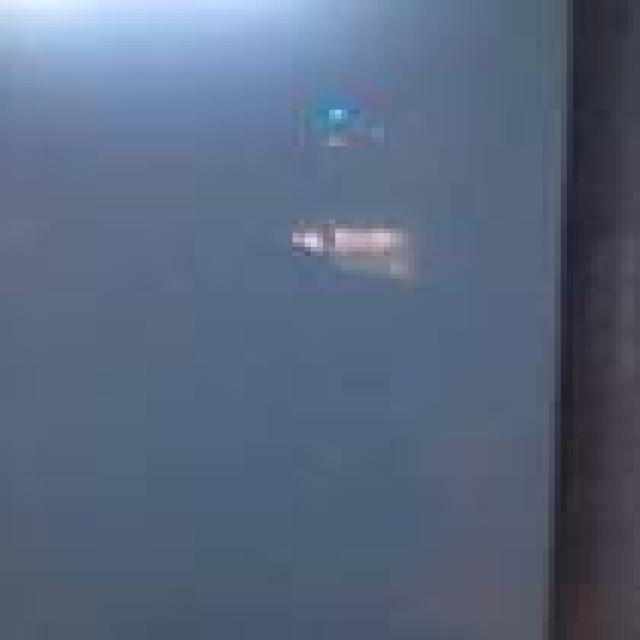dead_pixel: (294, 220, 427, 280), (306, 87, 381, 141)
